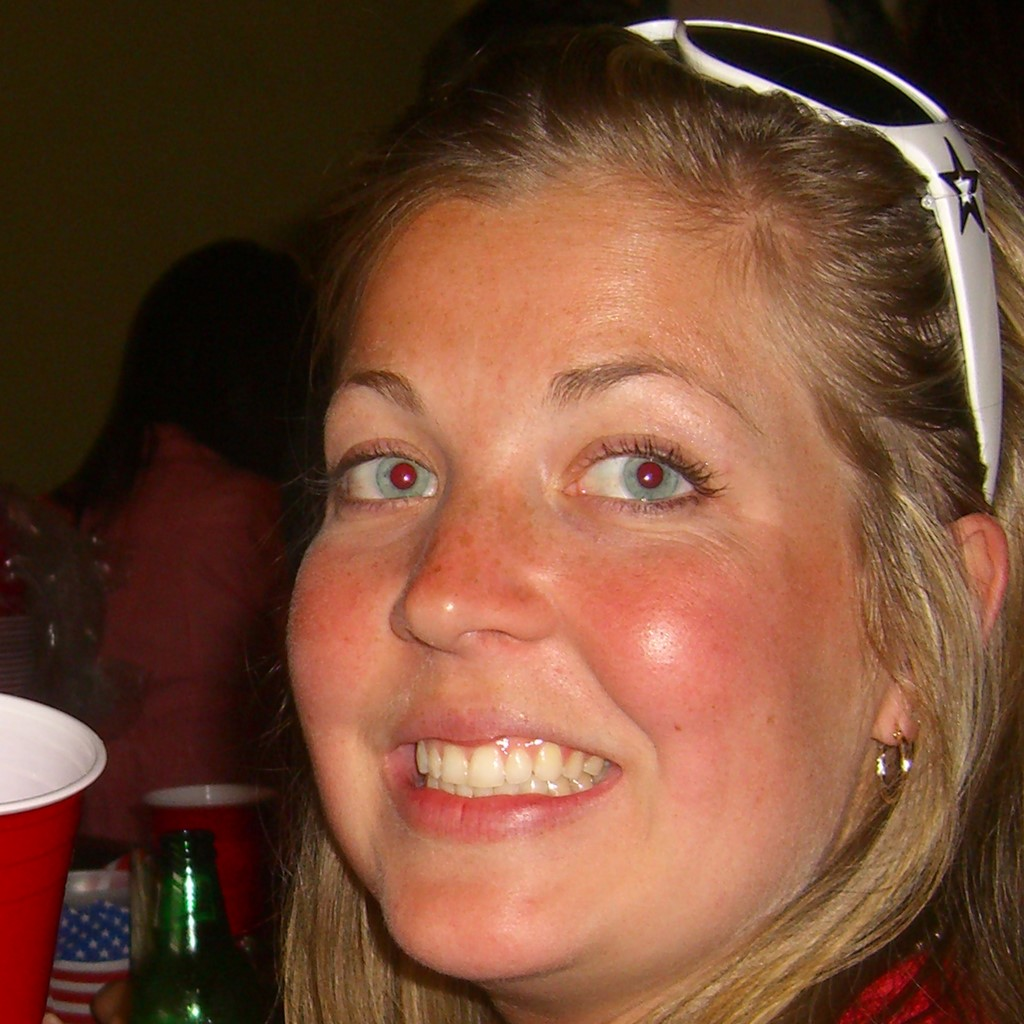sin_mascara: (301, 189, 889, 992)
